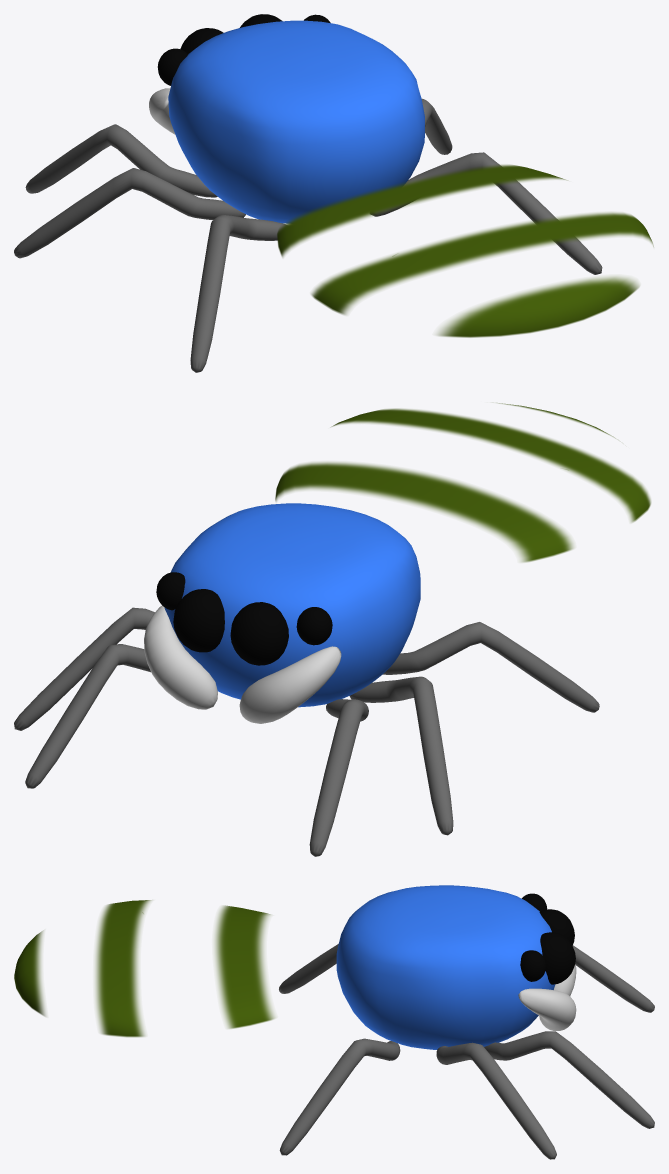
The model's file is Spider20.glb.
The picture shows the model from 3 angles, top to bottom: view 1: azimuth 30°, elevation 25°; view 2: azimuth 150°, elevation 25°; view 3: azimuth 270°, elevation 25°; orthographic projection. The views are drawn at different scales.
Parts seen in each view (by area): view 1: Head, Butt, Leg.003, Leg.005, Leg.001, Leg.004, Leg.002, Pincer.001, Eye.002, Eye; view 2: Head, Butt, Leg.005, Leg.003, Pincer.001, Pincer, Leg, Leg.001, Leg.002, Eye, Eye.001, Eye.002 (+1 smaller); view 3: Head, Butt, Leg, Leg.004, Leg.002, Pincer, Leg.001, Eye.001, Leg.005, Eye.003, Eye.
Boxes of the visible parts, left/top/right/bottom form: Head: left=168, top=20, right=424, bottom=223; Butt: left=277, top=164, right=653, bottom=337; Leg.003: left=14, top=168, right=245, bottom=258; Leg.005: left=190, top=215, right=286, bottom=372; Leg.001: left=25, top=124, right=217, bottom=197; Leg.004: left=370, top=152, right=602, bottom=274; Leg.002: left=422, top=98, right=452, bottom=154; Pincer.001: left=149, top=88, right=175, bottom=134; Eye.002: left=157, top=48, right=188, bottom=85; Eye: left=180, top=28, right=223, bottom=53; Head: left=164, top=503, right=420, bottom=707; Butt: left=275, top=403, right=650, bottom=562; Leg.005: left=383, top=622, right=599, bottom=712; Leg.003: left=349, top=676, right=453, bottom=835; Pincer.001: left=239, top=646, right=341, bottom=723; Pincer: left=144, top=605, right=217, bottom=709; Leg: left=25, top=644, right=150, bottom=788; Leg.001: left=309, top=699, right=368, bottom=856; Leg.002: left=14, top=607, right=154, bottom=730; Eye: left=230, top=602, right=288, bottom=665; Eye.001: left=173, top=589, right=224, bottom=652; Eye.002: left=296, top=607, right=332, bottom=645; Head: left=336, top=885, right=555, bottom=1049; Butt: left=14, top=900, right=275, bottom=1037; Leg: left=484, top=1031, right=654, bottom=1128; Leg.004: left=279, top=1038, right=400, bottom=1155; Leg.002: left=436, top=1042, right=556, bottom=1159; Pincer: left=518, top=988, right=576, bottom=1030; Leg.001: left=572, top=945, right=654, bottom=1012; Eye.001: left=540, top=932, right=575, bottom=984; Leg.005: left=279, top=944, right=338, bottom=993; Eye.003: left=520, top=950, right=546, bottom=981; Eye: left=539, top=909, right=574, bottom=945.
Bounding box in the file's own units: 0.3311 × 0.1445 × 0.5081.
Materials: 5 (1 with a texture image).
